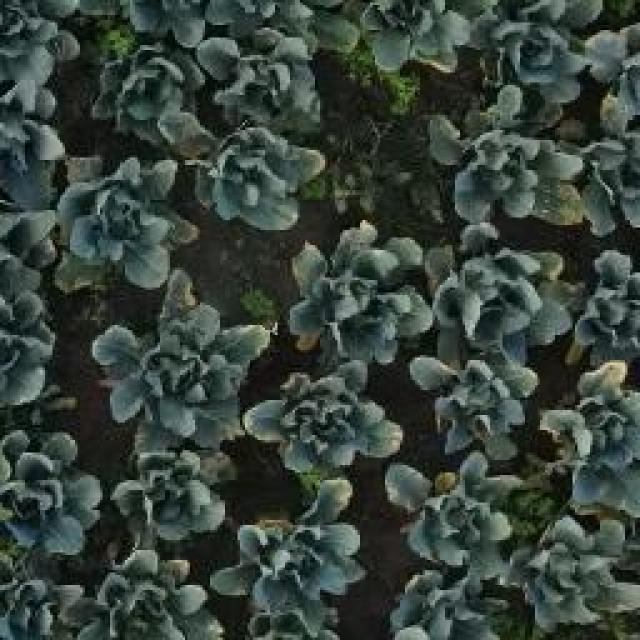cabbage: (97, 282, 248, 441), (222, 486, 362, 626), (55, 150, 192, 287), (425, 225, 566, 352), (290, 231, 427, 357), (249, 362, 400, 475), (443, 108, 582, 223), (196, 113, 327, 230), (409, 348, 536, 463), (522, 511, 640, 633), (546, 358, 640, 510), (390, 458, 520, 562), (0, 427, 102, 554), (191, 18, 325, 112), (479, 0, 602, 102), (89, 545, 220, 640), (115, 443, 231, 547), (89, 38, 204, 140), (388, 561, 515, 640), (359, 0, 473, 78), (570, 245, 640, 350), (0, 562, 88, 640)
